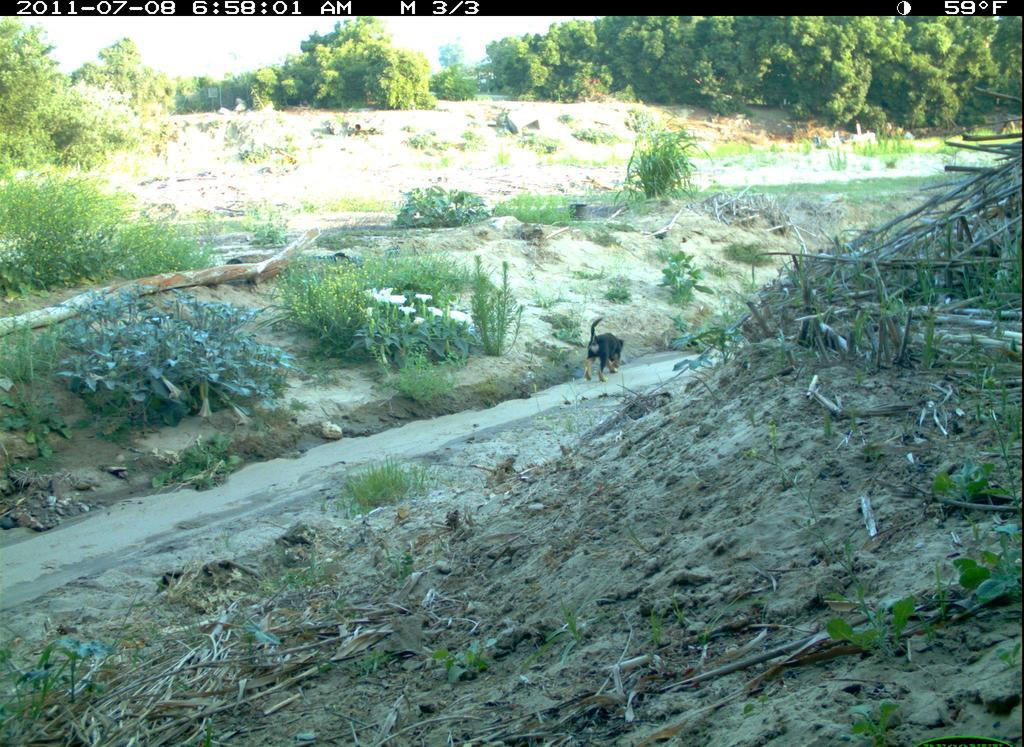dog: (577, 308, 632, 390)
